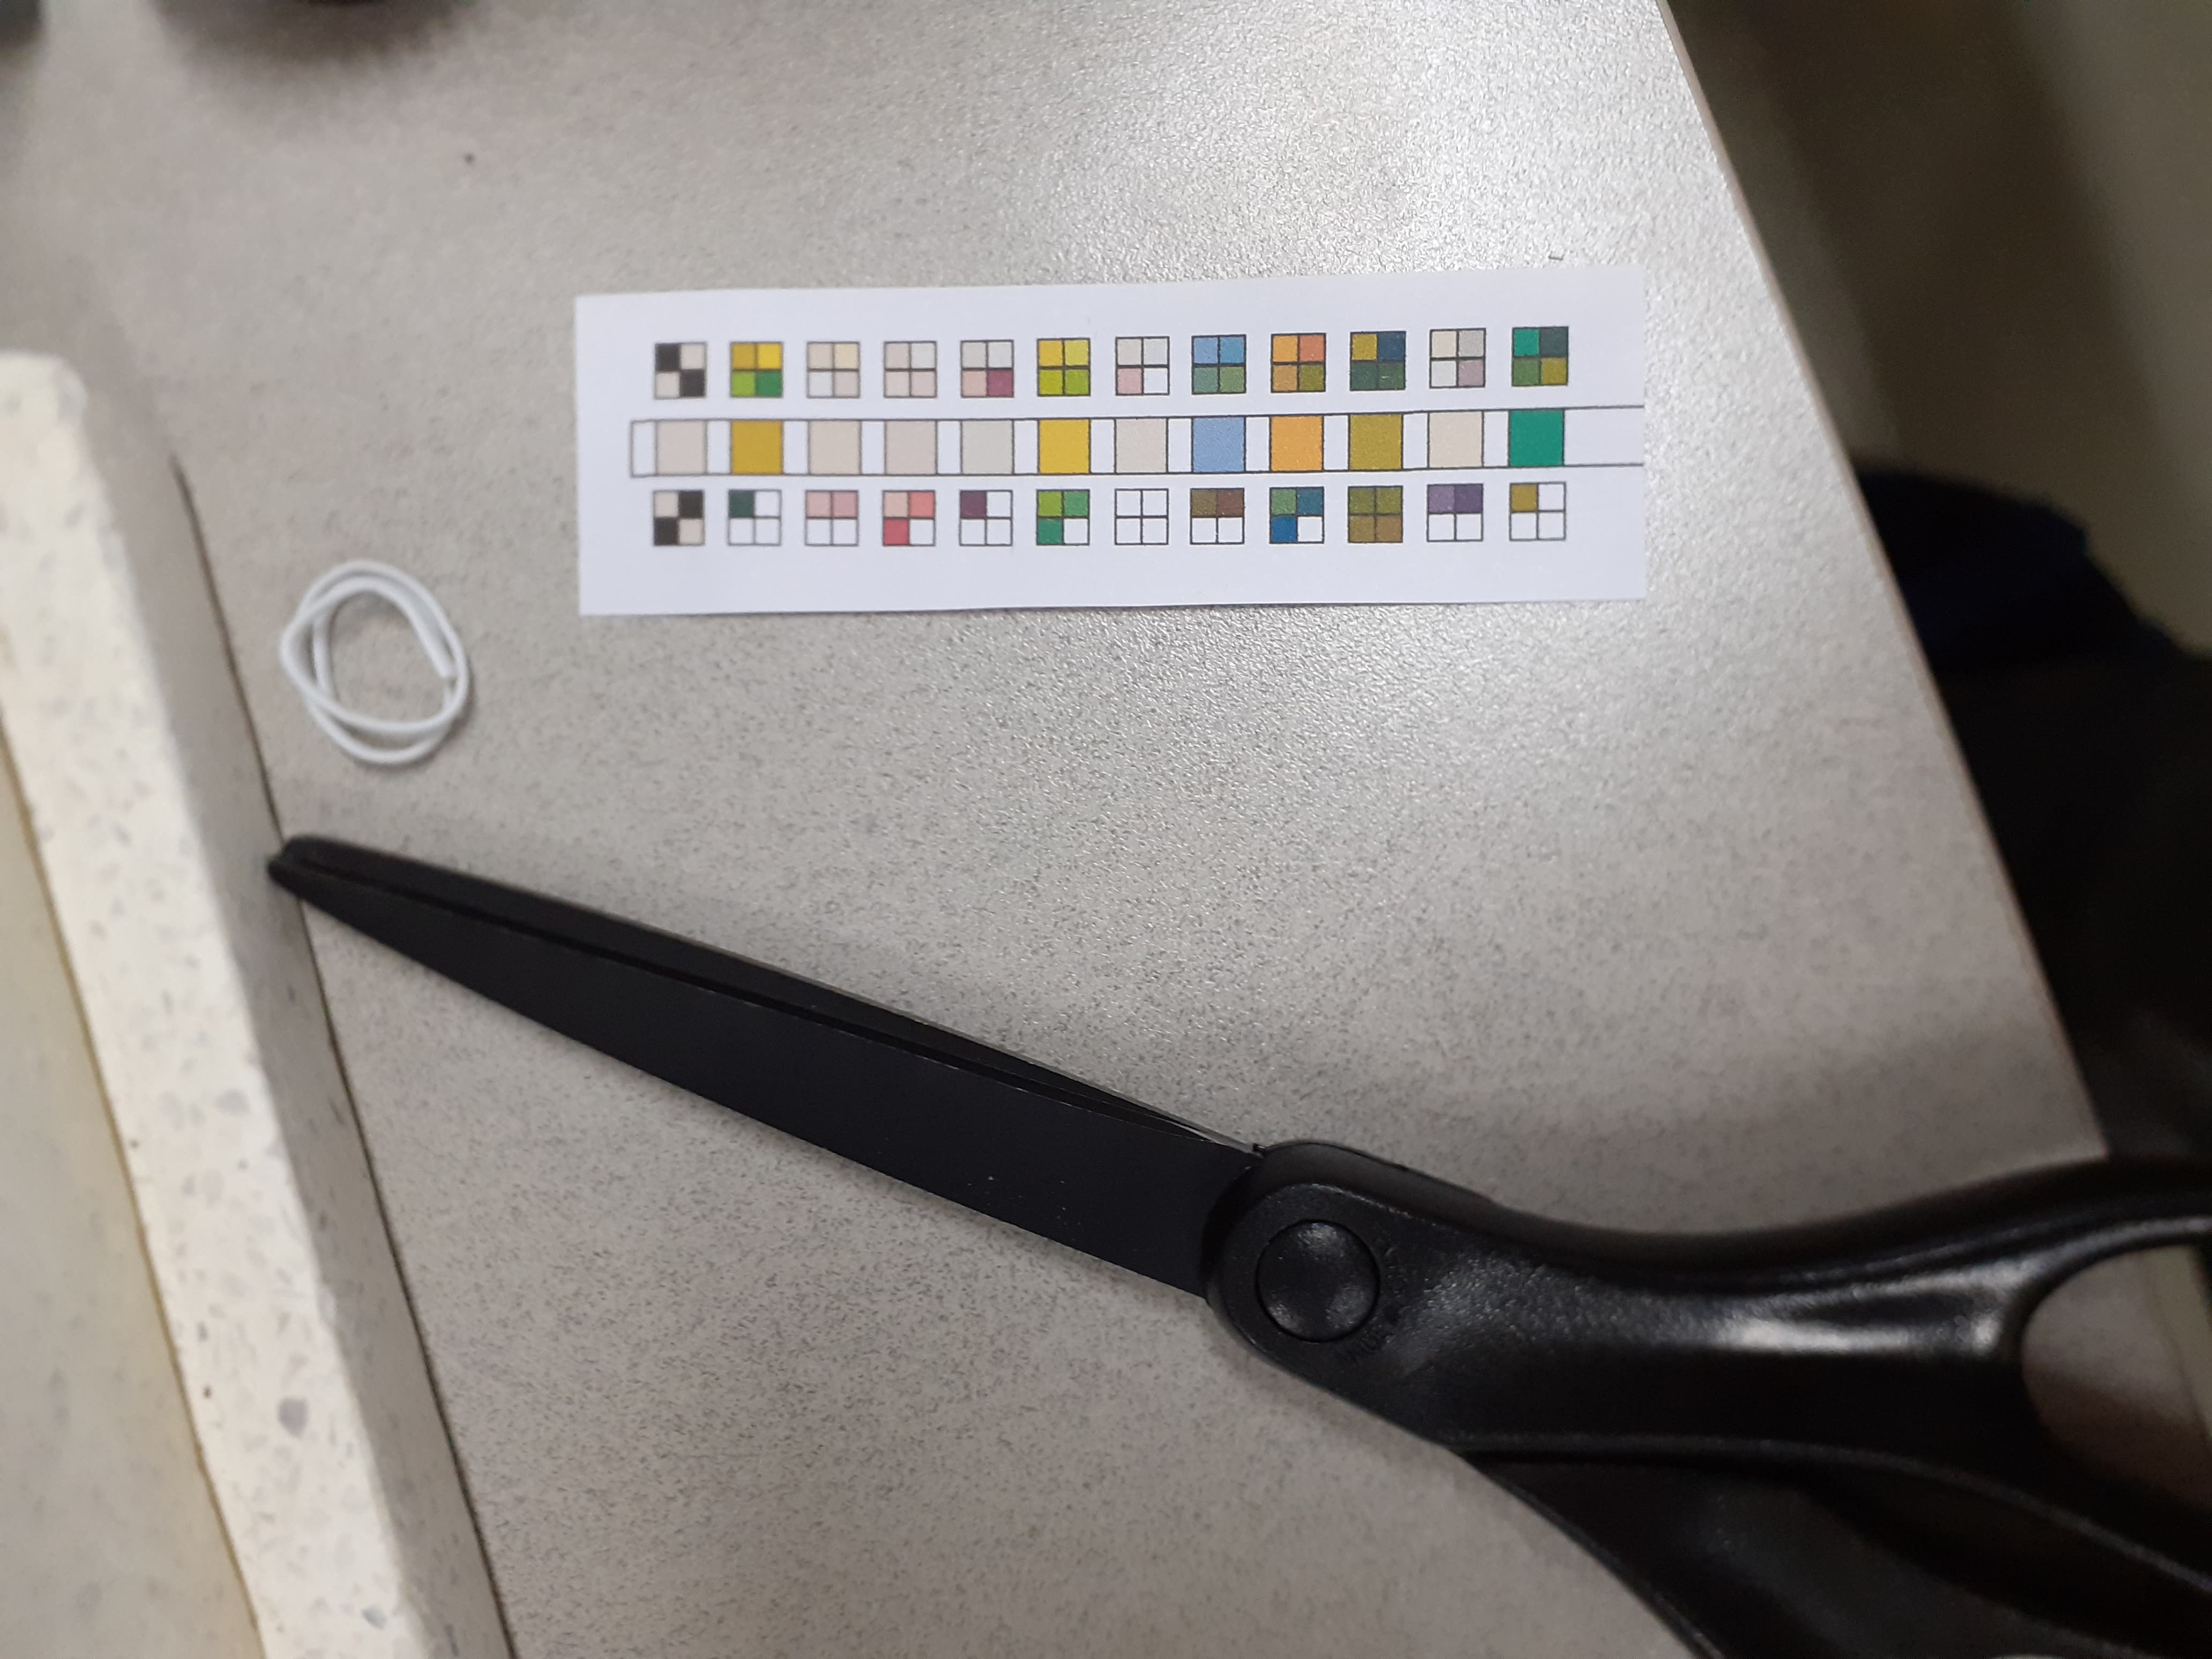tester: (570, 281, 1658, 615)
